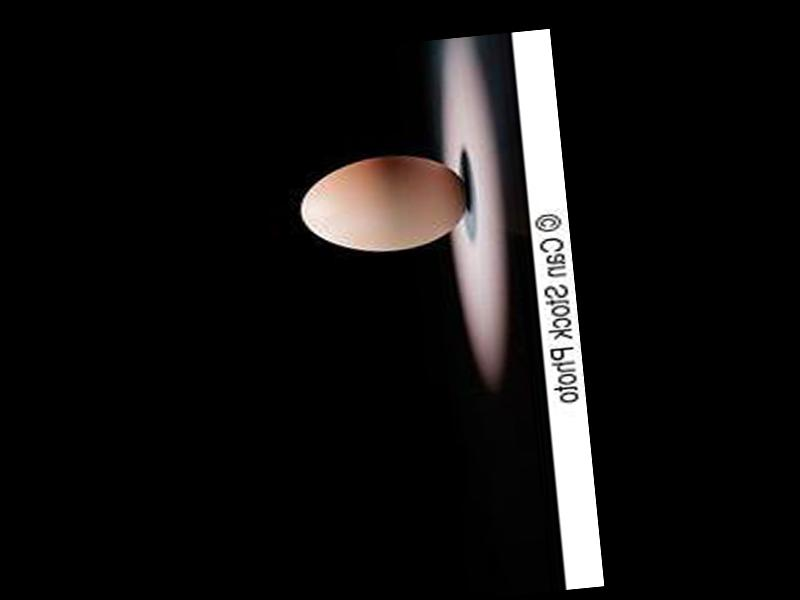Eggs: (297, 146, 473, 259)
